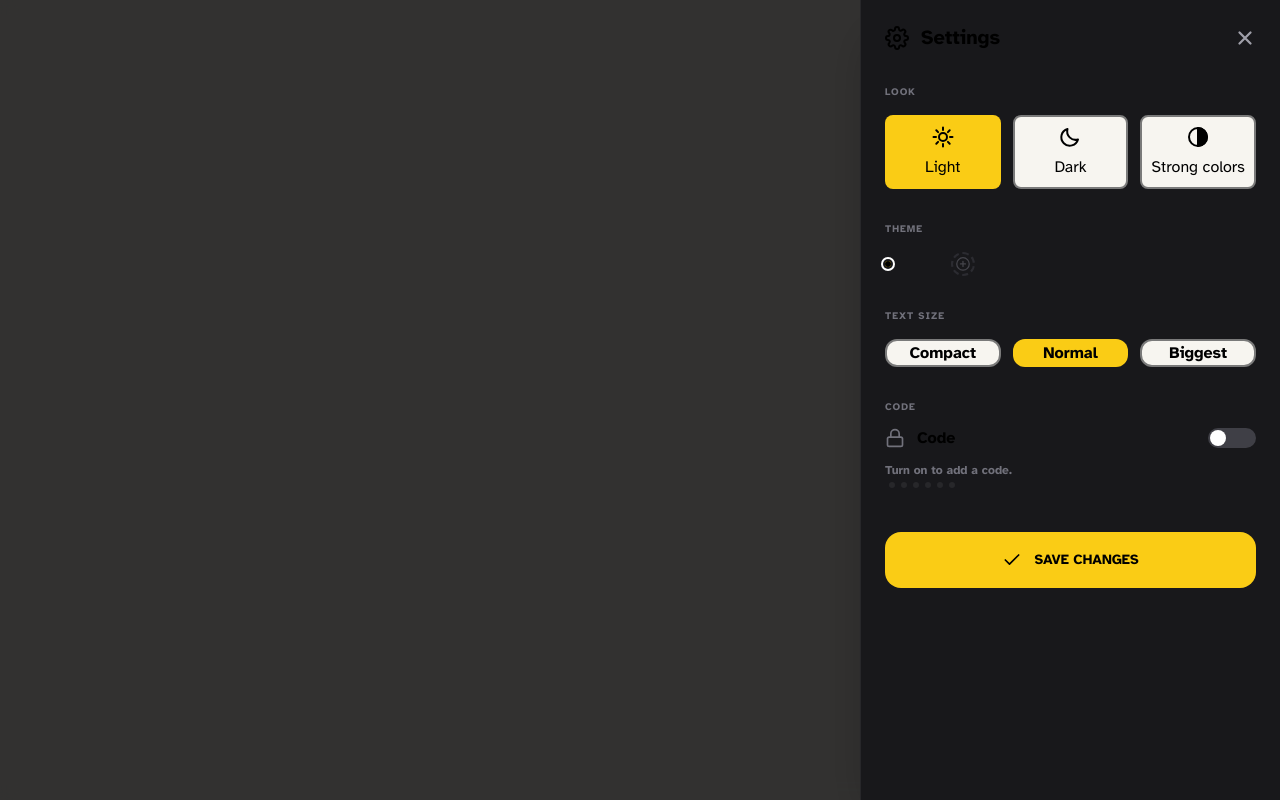
Test: SettingsModal: security › says Create code when no Secret Code is set yet, and needs no current code
expect the button "Create code" is not shown: met
Click the switch named "Code" at (1232, 438), box [1208,428,1256,448]
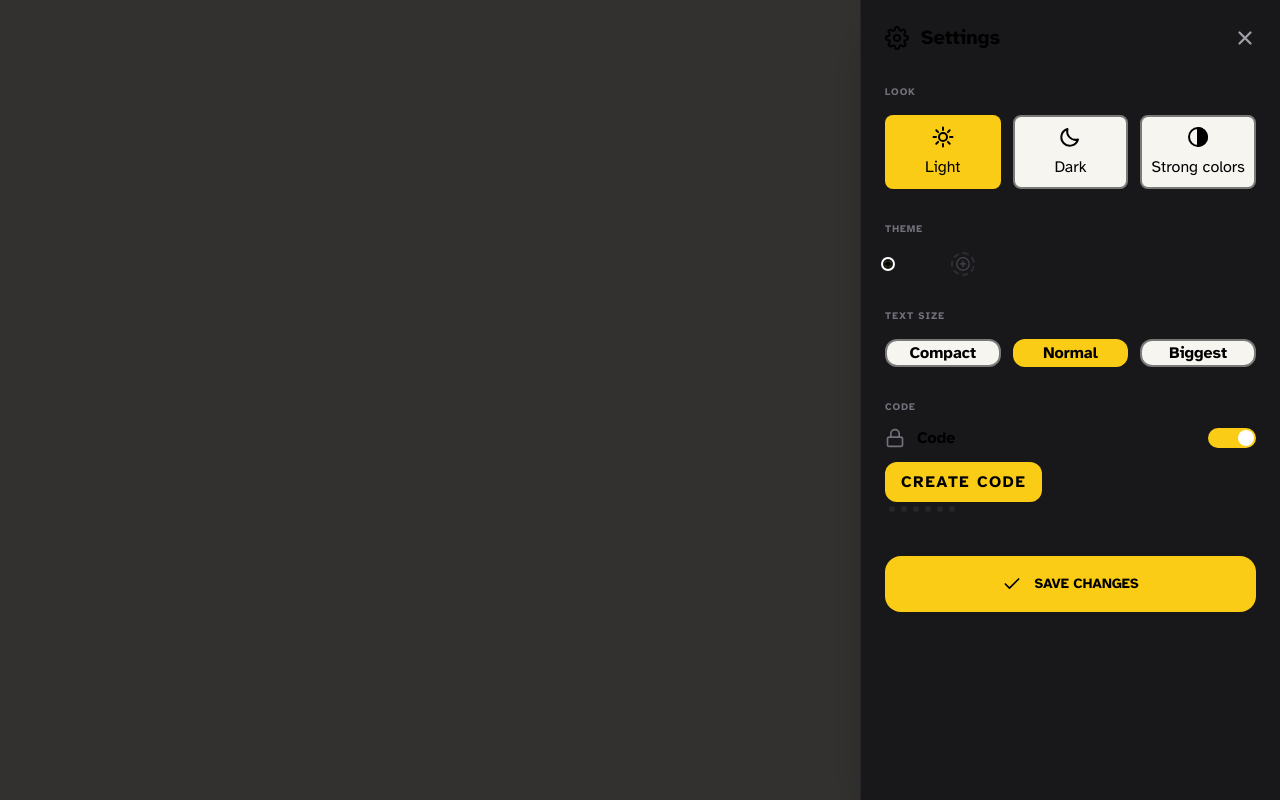
Click the button "Create code" at (964, 482), box [885,462,1042,502]
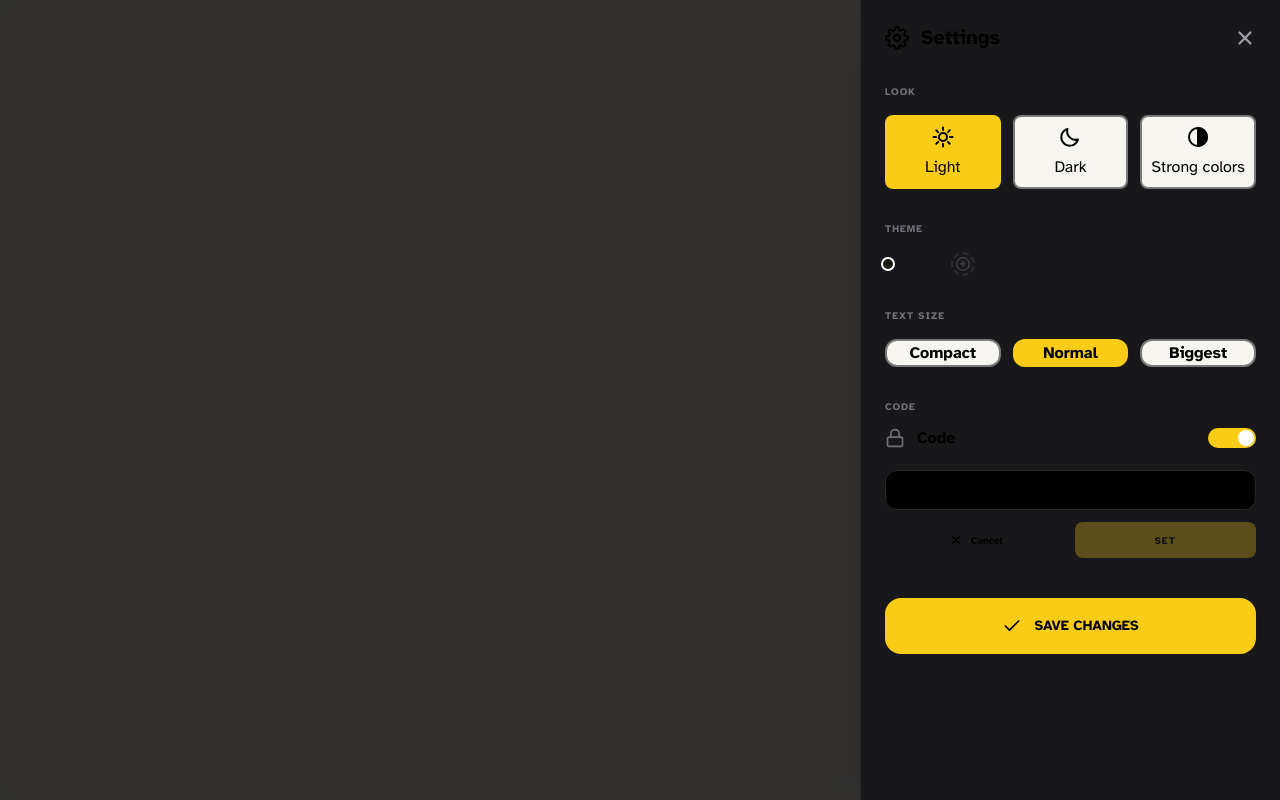
expect the password field with placeholder "New code, 6 digits" is shown: met, box [885,470,1256,510]
